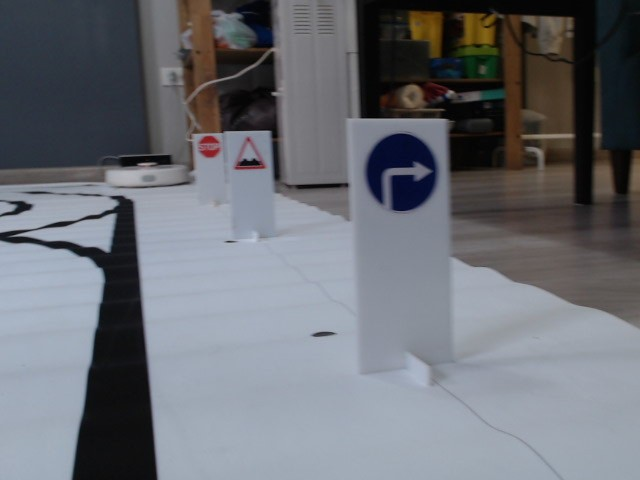Nerov: (232, 136, 266, 171)
Right: (365, 130, 437, 213)
Stop: (196, 135, 220, 157)
